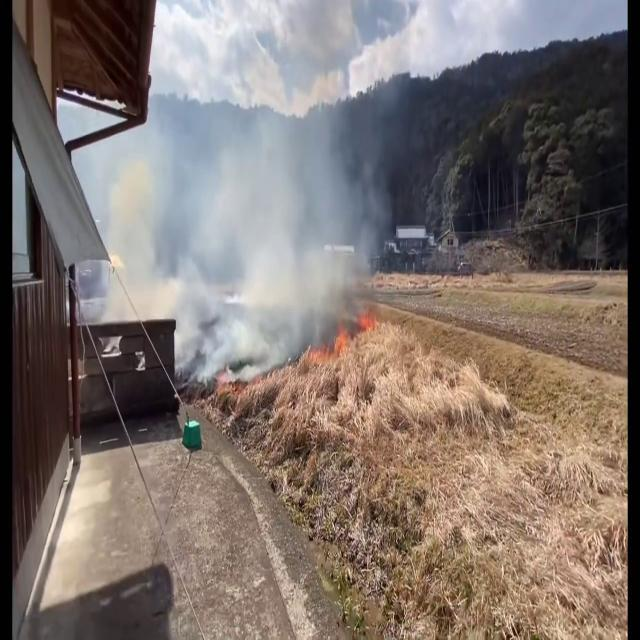Smoke: (98, 45, 392, 392)
